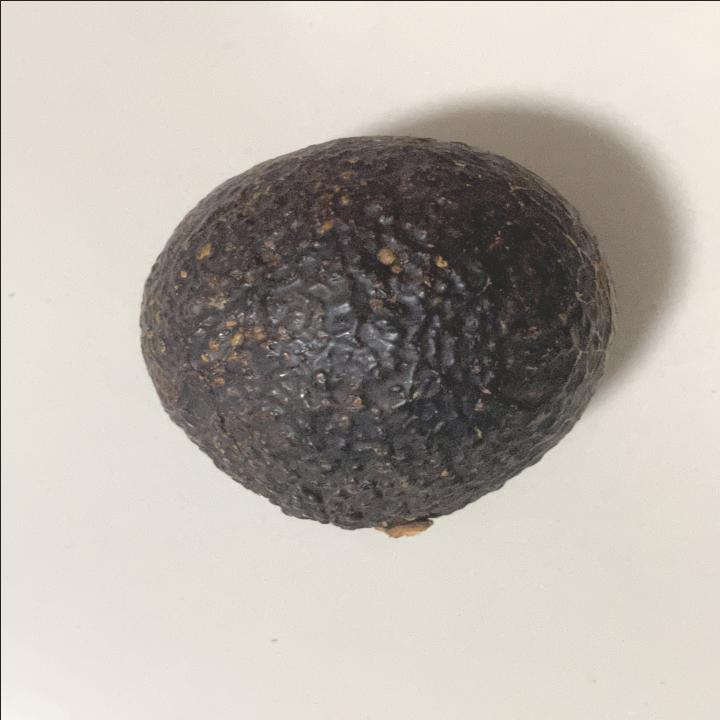Level3: (123, 127, 625, 548)
